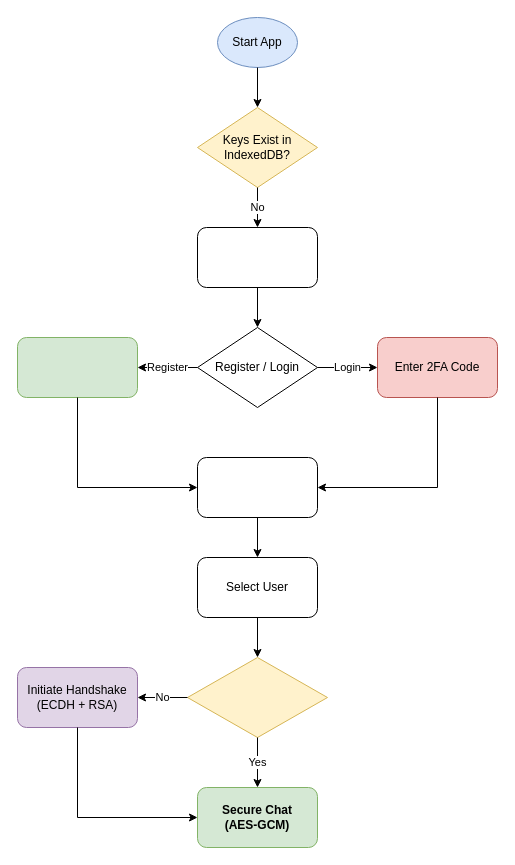
The diagram is 515 pixels wide and 865 high, and some of its shapes have lost their labels. Each missing label, with the box of its shape:
Auth Screen: (196, 226, 318, 288)
Dashboard (User List): (196, 456, 318, 518)
Generate Keys (WebCrypto) Save to IndexedDB: (16, 336, 138, 398)
Session Key Exists?: (186, 656, 328, 738)
